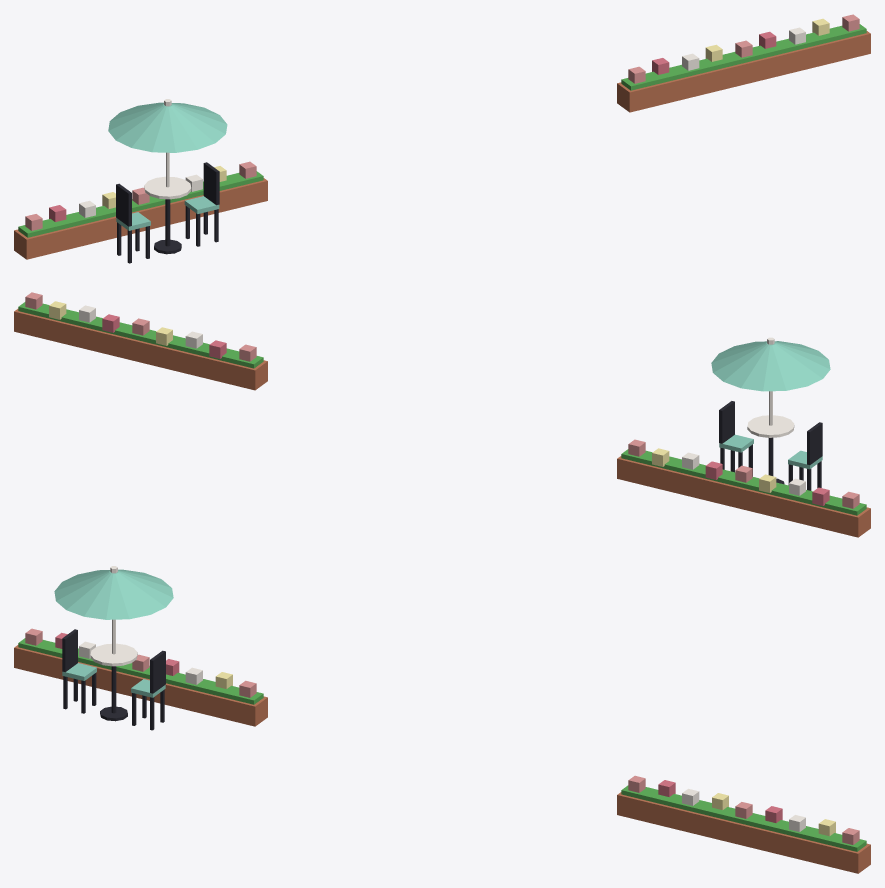
The model's file is CatCafe_Plot_Tier2.glb.
The picture shows the model from 3 angles, top to bottom: view 1: azimuth 30°, elevation 25°; view 2: azimuth 150°, elevation 25°; view 3: azimuth 330°, elevation 25°; orthographic projection.
Visible parts, largest first — view 1: CatCafe_Plot_Tier2, CatCafe_Plot_Tier2_Flowers; view 2: CatCafe_Plot_Tier2, CatCafe_Plot_Tier2_Flowers; view 3: CatCafe_Plot_Tier2, CatCafe_Plot_Tier2_Flowers.
Boxes of the visible parts, bbox=[...] form: CatCafe_Plot_Tier2: bbox=[14, 14, 870, 263]; CatCafe_Plot_Tier2_Flowers: bbox=[18, 24, 866, 237]; CatCafe_Plot_Tier2: bbox=[14, 292, 870, 537]; CatCafe_Plot_Tier2_Flowers: bbox=[18, 302, 866, 515]; CatCafe_Plot_Tier2: bbox=[14, 566, 870, 873]; CatCafe_Plot_Tier2_Flowers: bbox=[18, 638, 866, 851].
Size of the model in its own units: 30.8 by 5.15 by 4.
Materials: 1 (1 with a texture image).
